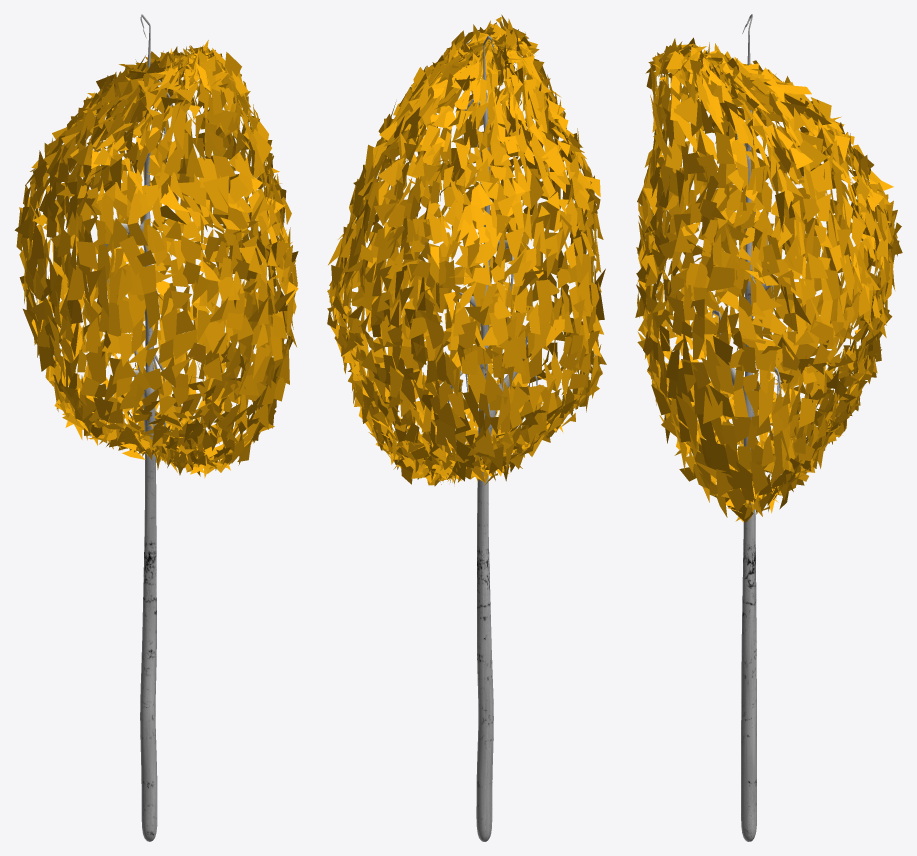
The model's file is Leaves63.001.fbx.
The picture shows the model from 3 angles, left to right: view 1: azimuth 30°, elevation 25°; view 2: azimuth 150°, elevation 25°; view 3: azimuth 270°, elevation 25°; orthographic projection. The views are drawn at different scales.
Parts seen in each view (by area): view 1: Leaves63.001; view 2: Leaves63.001; view 3: Leaves63.001.
Part boxes in pixels (x1,y1,x2,y2): Leaves63.001: (14,14,298,841); Leaves63.001: (327,14,606,841); Leaves63.001: (635,14,902,841).
Bounding box in the file's own units: 795 × 2612 × 768.
2 materials, 1 textured.
